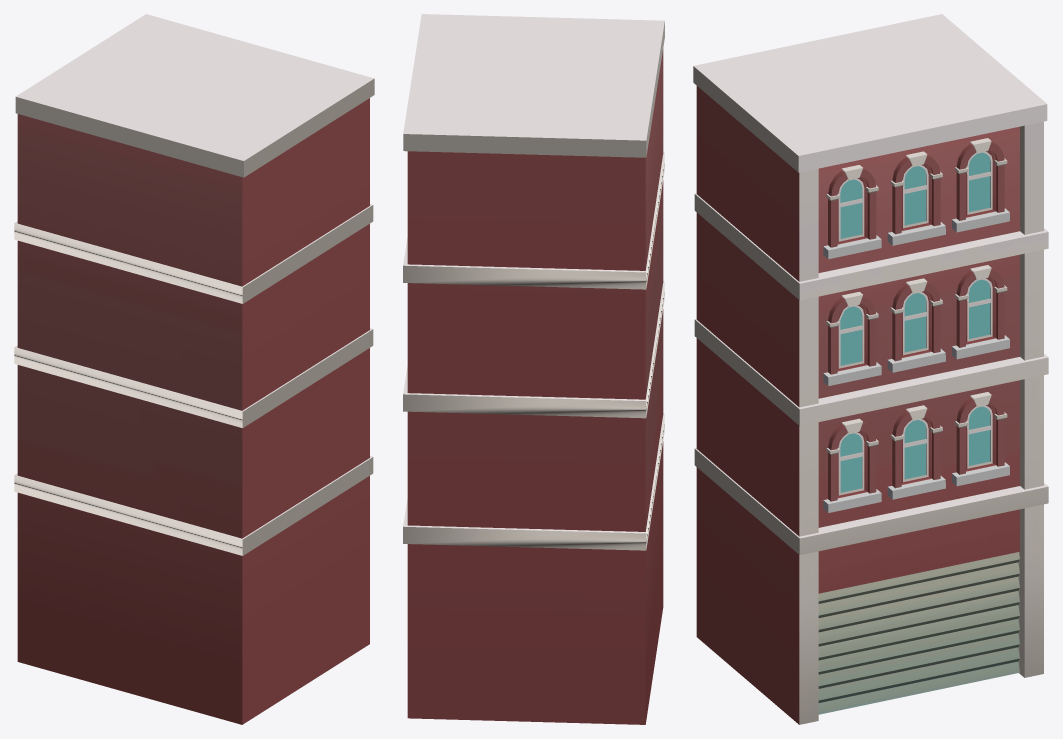
The model's file is Bilding 16.fbx.
The picture shows the model from 3 angles, left to right: view 1: azimuth 30°, elevation 25°; view 2: azimuth 150°, elevation 25°; view 3: azimuth 270°, elevation 25°; orthographic projection. The views are drawn at different scales.
Parts seen in each view (by area): view 1: Bilding_16; view 2: Bilding_16; view 3: Bilding_16.
Boxes of the visible parts, left/top/right/bottom form: Bilding_16: left=14, top=14, right=374, bottom=724; Bilding_16: left=403, top=14, right=664, bottom=724; Bilding_16: left=693, top=14, right=1048, bottom=724.
Size of the model in its own units: 445 by 832 by 470.
